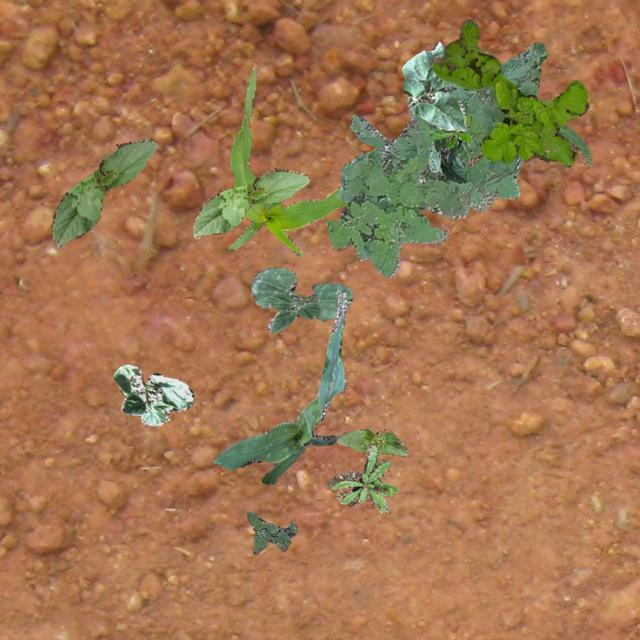crop: (212, 284, 346, 484), (228, 66, 346, 256), (50, 138, 156, 248), (192, 168, 308, 238), (250, 266, 352, 332), (401, 40, 465, 130), (466, 122, 590, 166), (112, 364, 192, 424), (336, 428, 406, 456), (426, 136, 466, 182)
weed: (324, 42, 546, 276), (432, 18, 586, 166), (326, 444, 398, 512), (246, 511, 296, 554), (429, 114, 472, 148)
